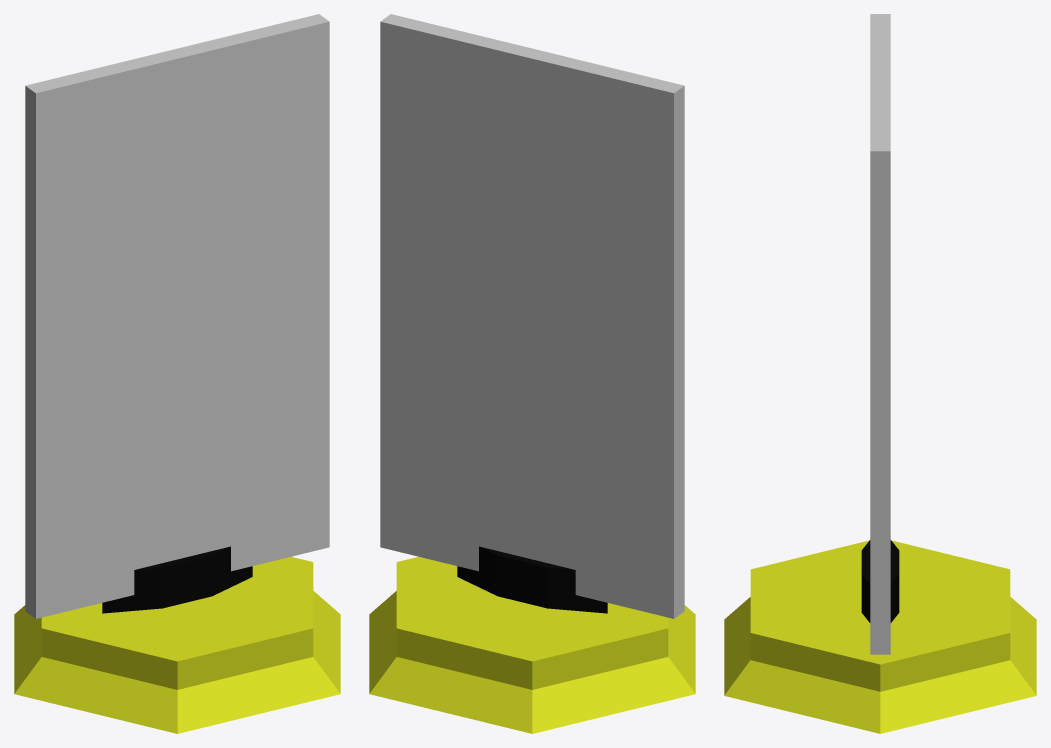
Rendered from chamaotix.DAE.
3 views of the same model, side by side, from view 1: azimuth 30°, elevation 25°; view 2: azimuth 150°, elevation 25°; view 3: azimuth 270°, elevation 25° (orthographic). The views are drawn at different scales.
Visible parts, largest first — view 1: Box001, Cylinder001; view 2: Box001, Cylinder001; view 3: Cylinder001, Box001.
Part boxes in pixels (bbox=[...]): Box001: bbox=[25, 14, 329, 618]; Cylinder001: bbox=[14, 546, 340, 733]; Box001: bbox=[380, 14, 684, 618]; Cylinder001: bbox=[369, 546, 695, 733]; Cylinder001: bbox=[724, 540, 1036, 733]; Box001: bbox=[870, 14, 890, 654].
Size of the model in its own units: 1.8 by 3.17 by 1.56.
